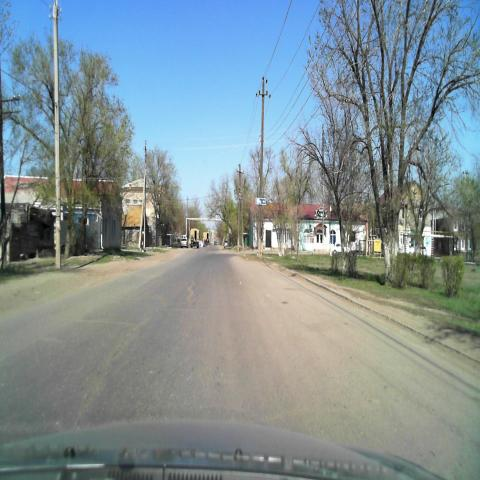6_15_2: (255, 197, 267, 205)
